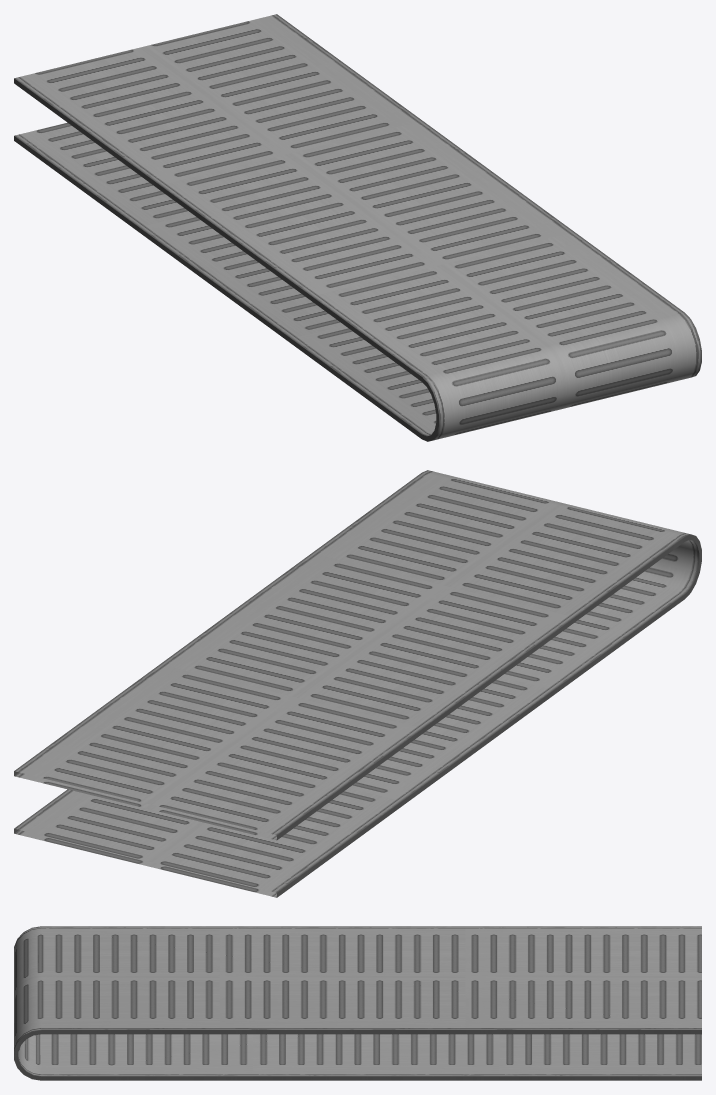
File: grillbelt.FBX
3 views of the same model, one above another, from view 1: azimuth 30°, elevation 25°; view 2: azimuth 150°, elevation 25°; view 3: azimuth 270°, elevation 25° (orthographic). The views are drawn at different scales.
Visible parts, largest first — view 1: grillbelt; view 2: grillbelt; view 3: grillbelt.
Part boxes in pixels (x1,y1,x2,y2): grillbelt: (14,14,701,441); grillbelt: (14,470,701,897); grillbelt: (14,926,701,1080).
Bounding box in the file's own units: 47.42 × 10.77 × 133.
